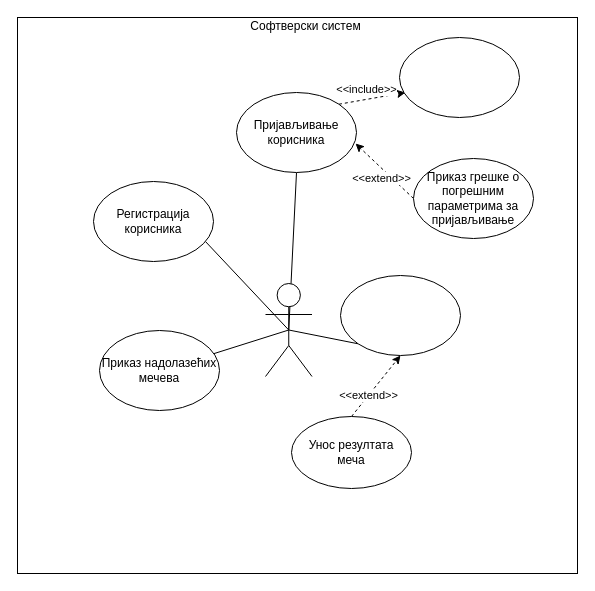
The diagram is 595 pixels wide and 591 high, and some of its shapes have lost their labels. Here are the shapes that lost their labels. From the top down, the centre of each, then its label:
At (459,77): "Провера исправности лозинке".
At (400,315): "Креирање новог меча".
